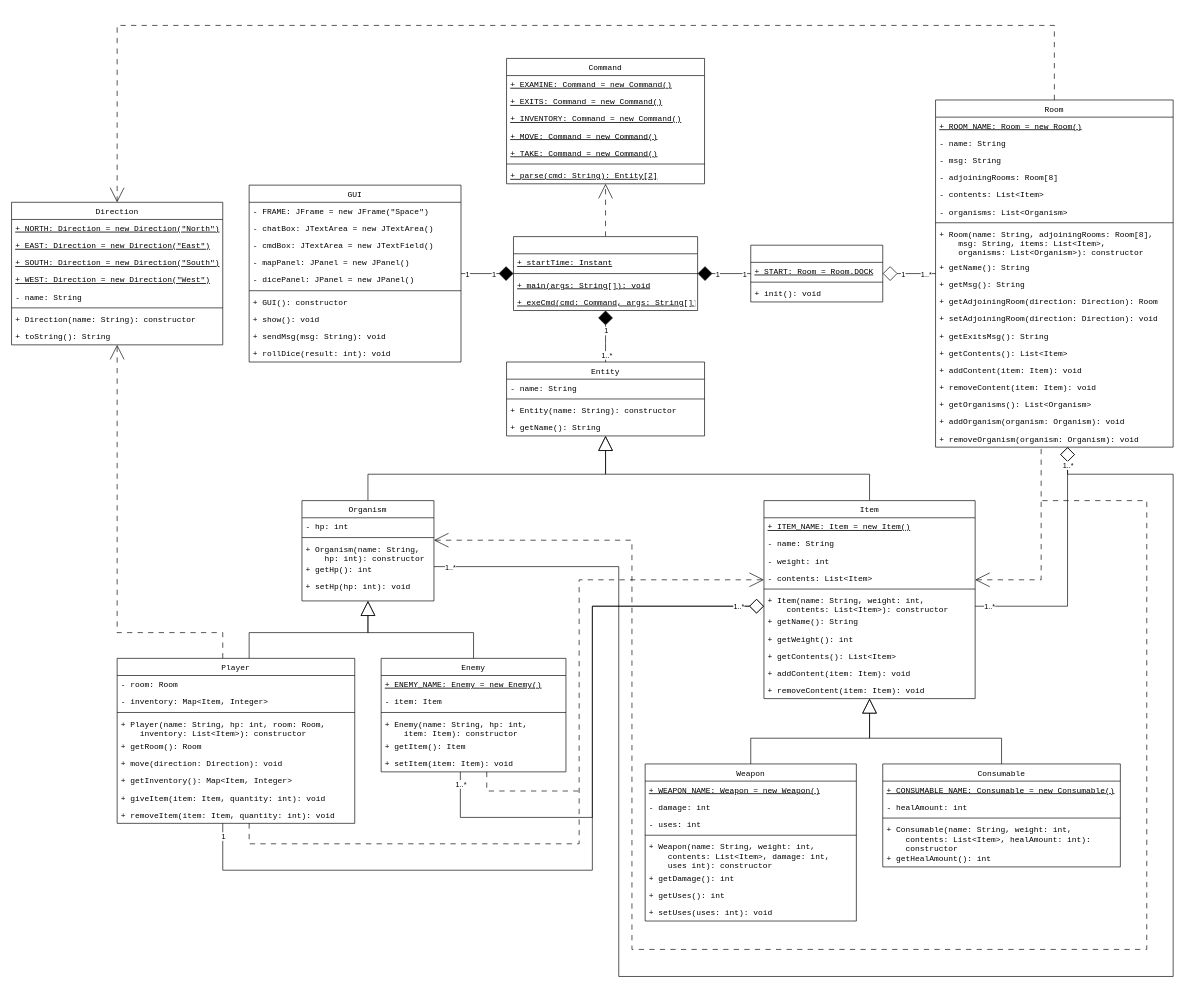
This 1199x1003 diagram has some shape labels left out. Here are the shapes that lost their labels. From the top down, the box of each, then its label:
(513, 236, 698, 311): Space
(750, 245, 883, 302): Board
